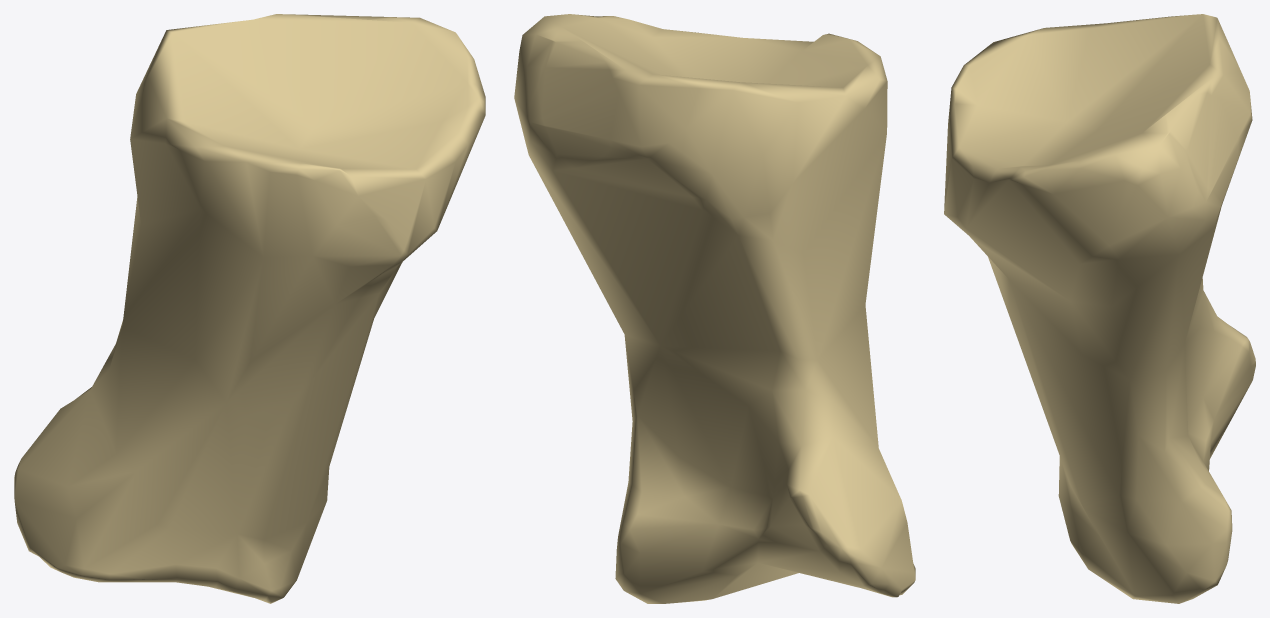
The picture shows the model from 3 angles, left to right: view 1: azimuth 30°, elevation 25°; view 2: azimuth 150°, elevation 25°; view 3: azimuth 270°, elevation 25°; orthographic projection. The views are drawn at different scales.
Parts seen in each view (by area): view 1: 右侧第一趾近节趾骨; view 2: 右侧第一趾近节趾骨; view 3: 右侧第一趾近节趾骨.
Boxes of the visible parts, <box> form: 右侧第一趾近节趾骨: <box>14,14,485,603</box>; 右侧第一趾近节趾骨: <box>514,14,915,603</box>; 右侧第一趾近节趾骨: <box>944,14,1255,603</box>.
Bounding box in the file's own units: 0.0385 × 0.0509 × 0.0261.
